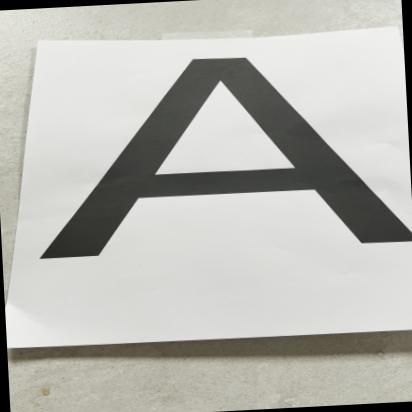seat: (9, 19, 412, 313)
